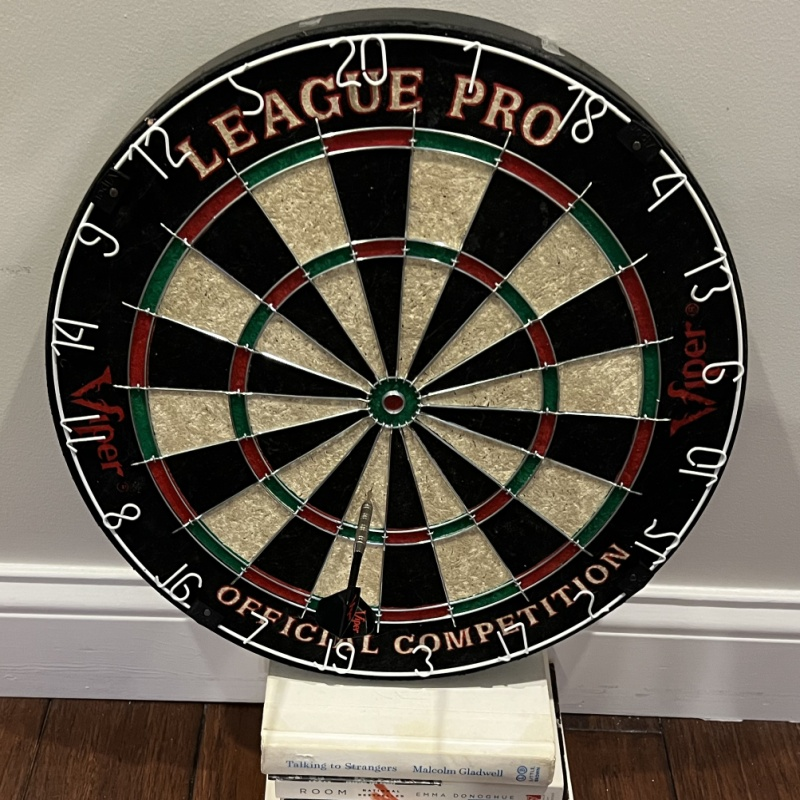dart: (361, 485, 378, 518)
eleven: (59, 413, 106, 451)
six: (701, 359, 746, 386)
three: (411, 644, 438, 679)
twenty: (333, 35, 388, 86)
